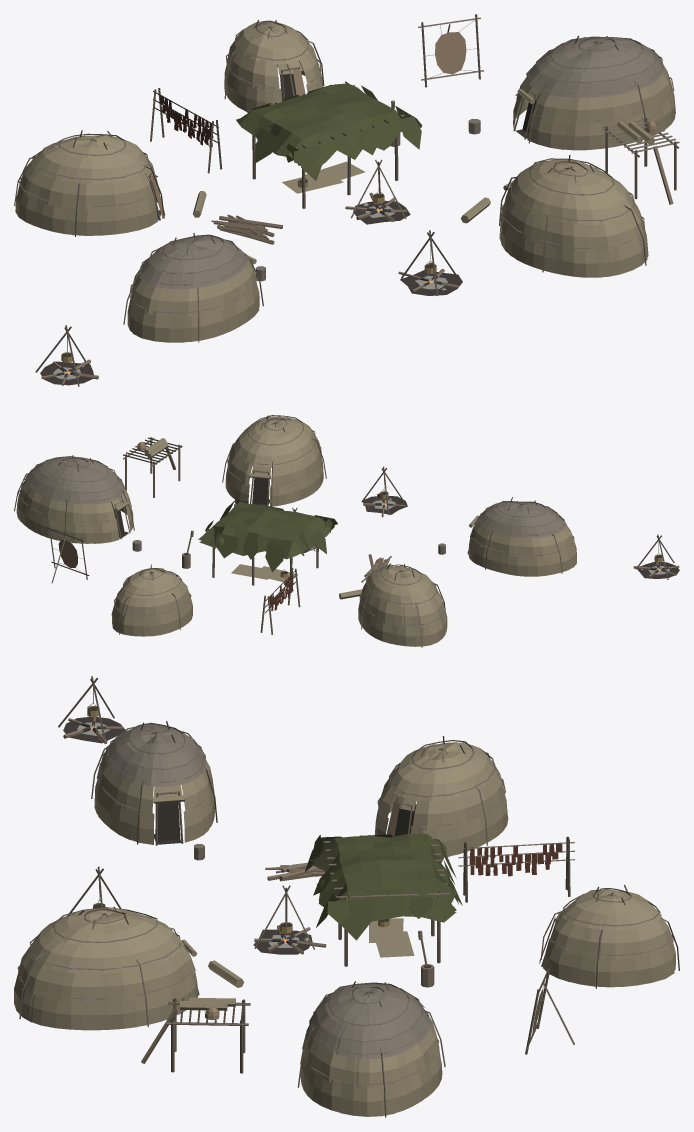
File: potawatomi_camp_1812_south_reach__camp_1812.glb
3 renders of one model, top to bottom at view 1: azimuth 30°, elevation 25°; view 2: azimuth 150°, elevation 25°; view 3: azimuth 270°, elevation 25°, orthographic. The views are drawn at different scales.
Parts seen in each view (by area): view 1: potawatomi_camp_1812_south_reach__camp_1812; view 2: potawatomi_camp_1812_south_reach__camp_1812; view 3: potawatomi_camp_1812_south_reach__camp_1812.
Part boxes in pixels (x1=…): potawatomi_camp_1812_south_reach__camp_1812: x1=14, y1=14, x2=679, y2=386; potawatomi_camp_1812_south_reach__camp_1812: x1=14, y1=415, x2=679, y2=647; potawatomi_camp_1812_south_reach__camp_1812: x1=14, y1=676, x2=679, y2=1117.
Bounding box in the file's own units: 27.56 × 2.92 × 19.33.
